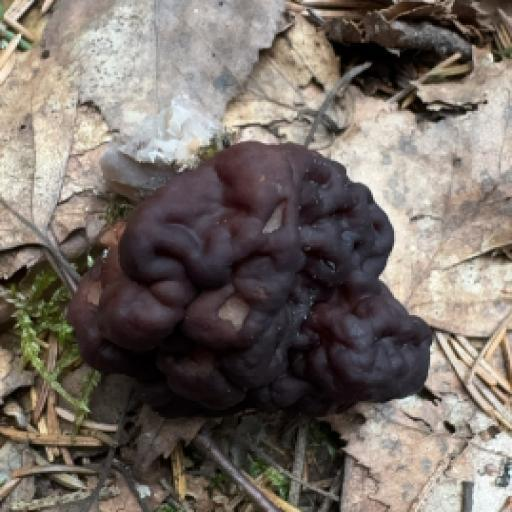mushroom: (32, 104, 449, 495)
